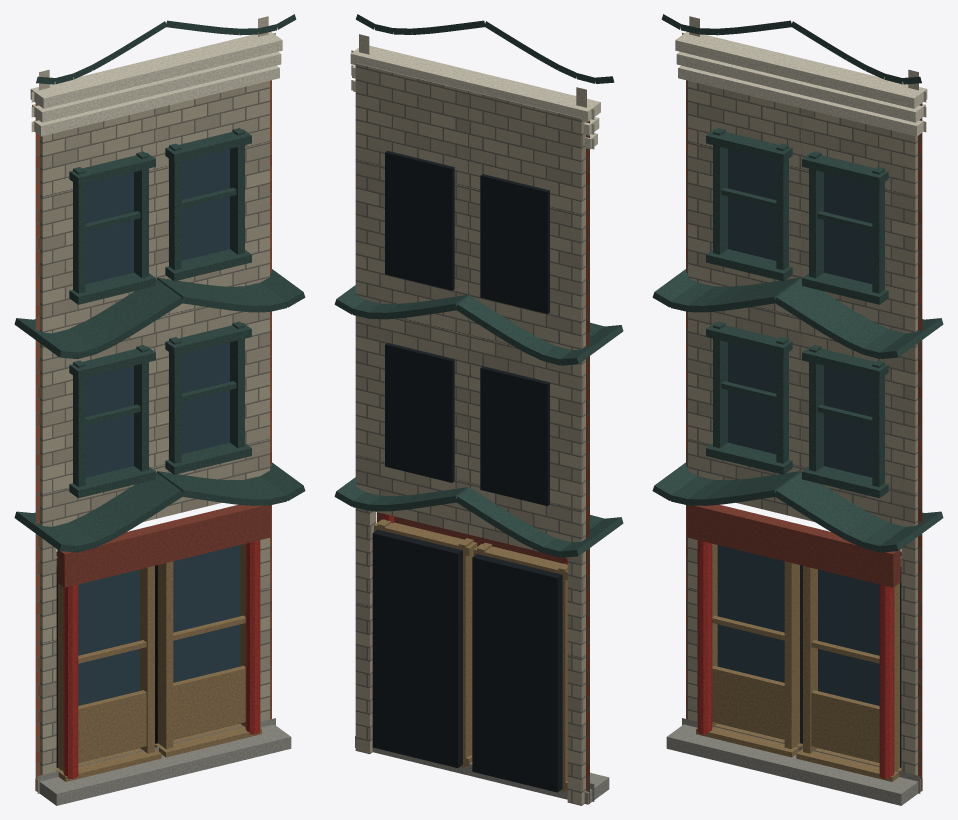
File: CHINA12_lod2.glb
The picture shows the model from 3 angles, left to right: view 1: azimuth 30°, elevation 25°; view 2: azimuth 150°, elevation 25°; view 3: azimuth 330°, elevation 25°; orthographic projection.
Parts seen in each view (by area): view 1: CHINA12_FRONT_LOD2; view 2: CHINA12_FRONT_LOD2; view 3: CHINA12_FRONT_LOD2.
Boxes of the visible parts, <box> form: CHINA12_FRONT_LOD2: <box>14,14,305,805</box>; CHINA12_FRONT_LOD2: <box>334,14,623,805</box>; CHINA12_FRONT_LOD2: <box>652,14,943,805</box>.
Size of the model in its own units: 3.66 by 10.09 by 1.1.
Materials: 12 (10 with a texture image).
